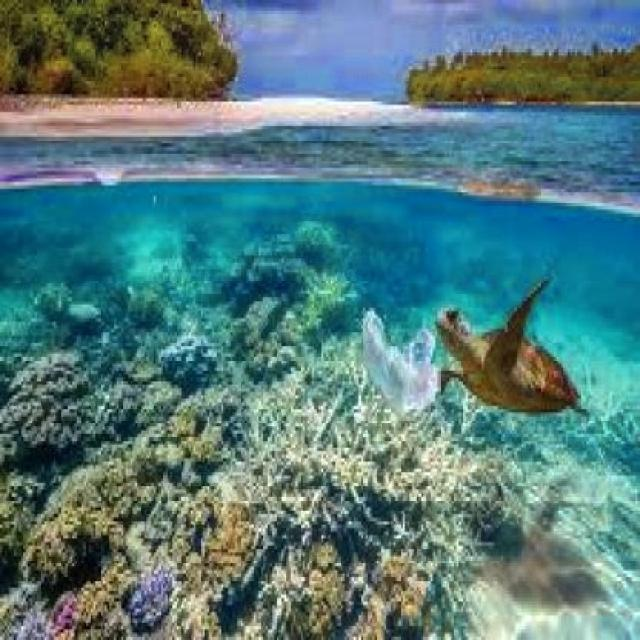pbag: (347, 294, 442, 423)
